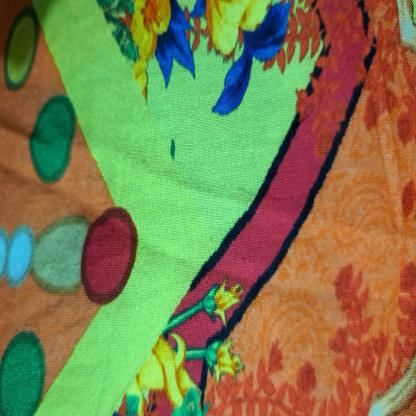spot: (166, 130, 180, 168)
